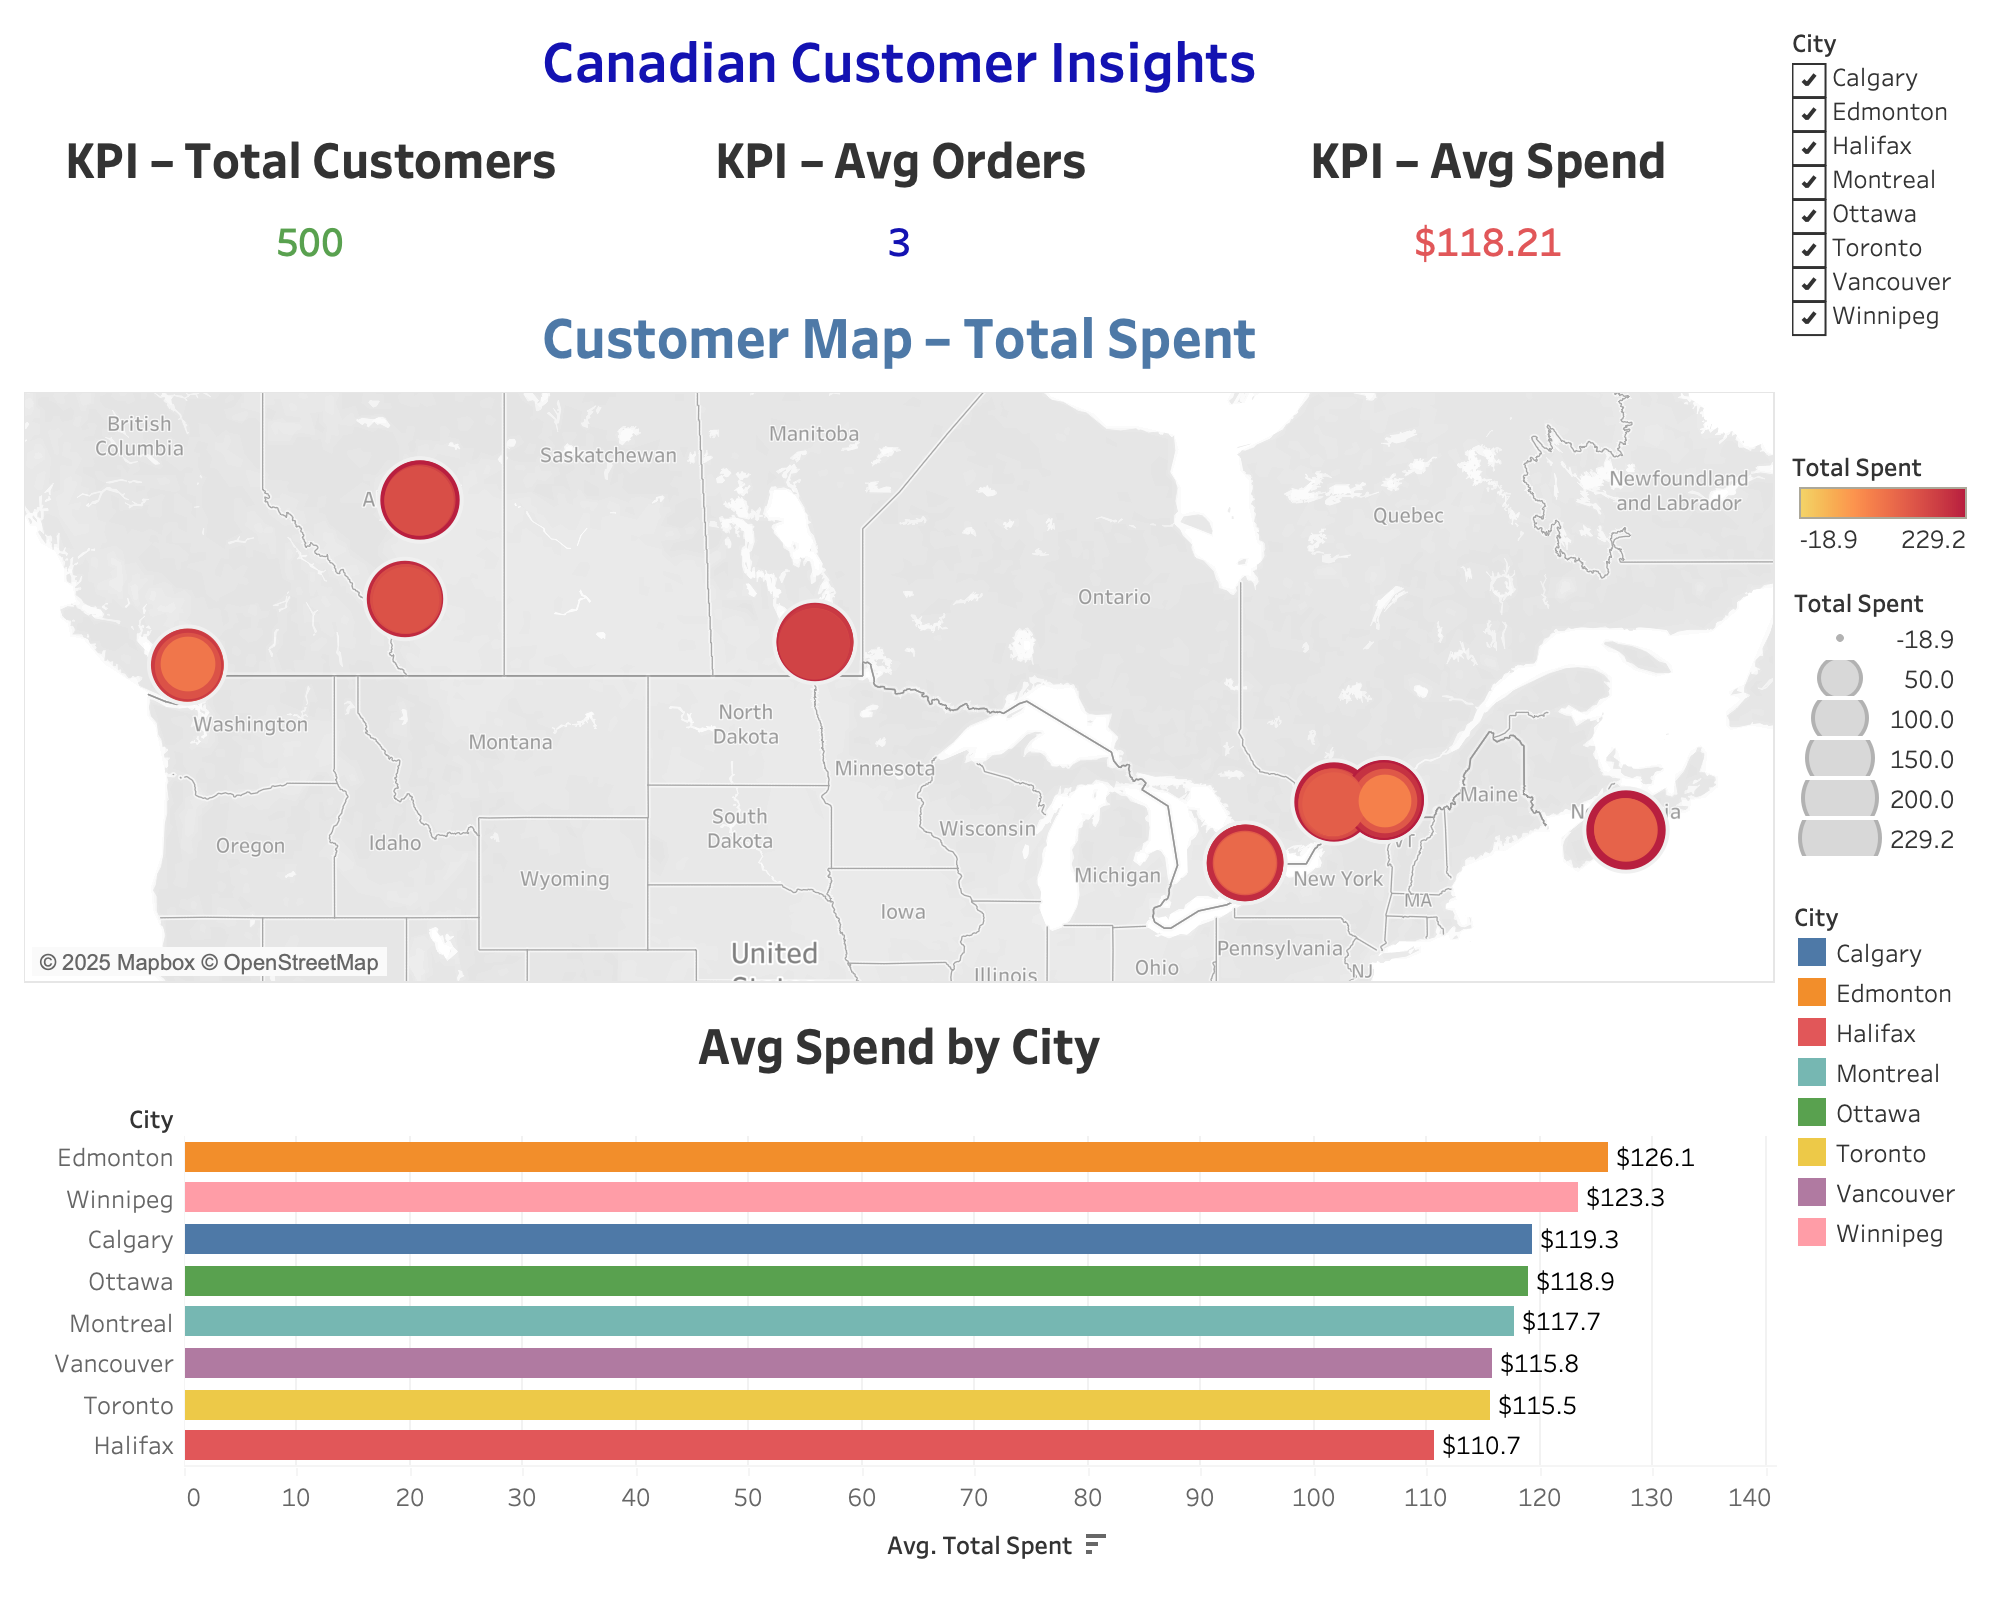

This screenshot's page, from the dashboard's own definition file:
{"tool":"tableau","page":{"name":"Canadian Customer Insights   ","canvas":[1000,800],"ordinal":0},"visuals":[{"type":"title","box":[8,8,884,45]},{"type":"filter","title":"Customer Map – Total Spent","param":"[federated.0q8elyx139j4qm1d42l7n1a38fau].[none:City:nk]","box":[892,8,100,209]},{"type":"worksheet","title":"KPI – Total Customers","mark":"Automatic","box":[8,53,294.7,87]},{"type":"worksheet","title":"KPI – Avg Orders","mark":"Automatic","box":[302.7,53,294.7,87]},{"type":"worksheet","title":"KPI – Avg Spend","mark":"Automatic","box":[597.3,53,294.7,87]},{"type":"worksheet","title":"Customer Map – Total Spent","mark":"Circle","rows":["Latitude"],"cols":["Longitude"],"box":[8,140,884,356]},{"type":"legend","title":"Customer Map – Total Spent","param":"[federated.0q8elyx139j4qm1d42l7n1a38fau].[sum:Total_Spent:qk]","box":[892,217,100,70]},{"type":"legend","title":"Customer Map – Total Spent","param":"[federated.0q8elyx139j4qm1d42l7n1a38fau].[sum:Total_Spent:qk]","box":[892,287,100,157]},{"type":"legend","title":"Avg Spend by City","param":"[federated.0q8elyx139j4qm1d42l7n1a38fau].[none:City:nk]","box":[892,444,100,348]},{"type":"worksheet","title":"Avg Spend by City","mark":"Automatic","rows":["City"],"cols":["Total_Spent"],"box":[8,496,884,296]}]}

Visuals, with their boxes in screenshot pixels (x1, y1, x2, y2), scaled from the page's 1000x800 canvas onto the 2000x1600 screenshot:
title: (x1=16, y1=16, x2=1784, y2=106)
"Customer Map – Total Spent" filter: (x1=1784, y1=16, x2=1984, y2=434)
"KPI – Total Customers" worksheet: (x1=16, y1=106, x2=605, y2=280)
"KPI – Avg Orders" worksheet: (x1=605, y1=106, x2=1195, y2=280)
"KPI – Avg Spend" worksheet: (x1=1195, y1=106, x2=1784, y2=280)
"Customer Map – Total Spent" worksheet (Circle marks): (x1=16, y1=280, x2=1784, y2=992)
"Customer Map – Total Spent" legend: (x1=1784, y1=434, x2=1984, y2=574)
"Customer Map – Total Spent" legend: (x1=1784, y1=574, x2=1984, y2=888)
"Avg Spend by City" legend: (x1=1784, y1=888, x2=1984, y2=1584)
"Avg Spend by City" worksheet: (x1=16, y1=992, x2=1784, y2=1584)
